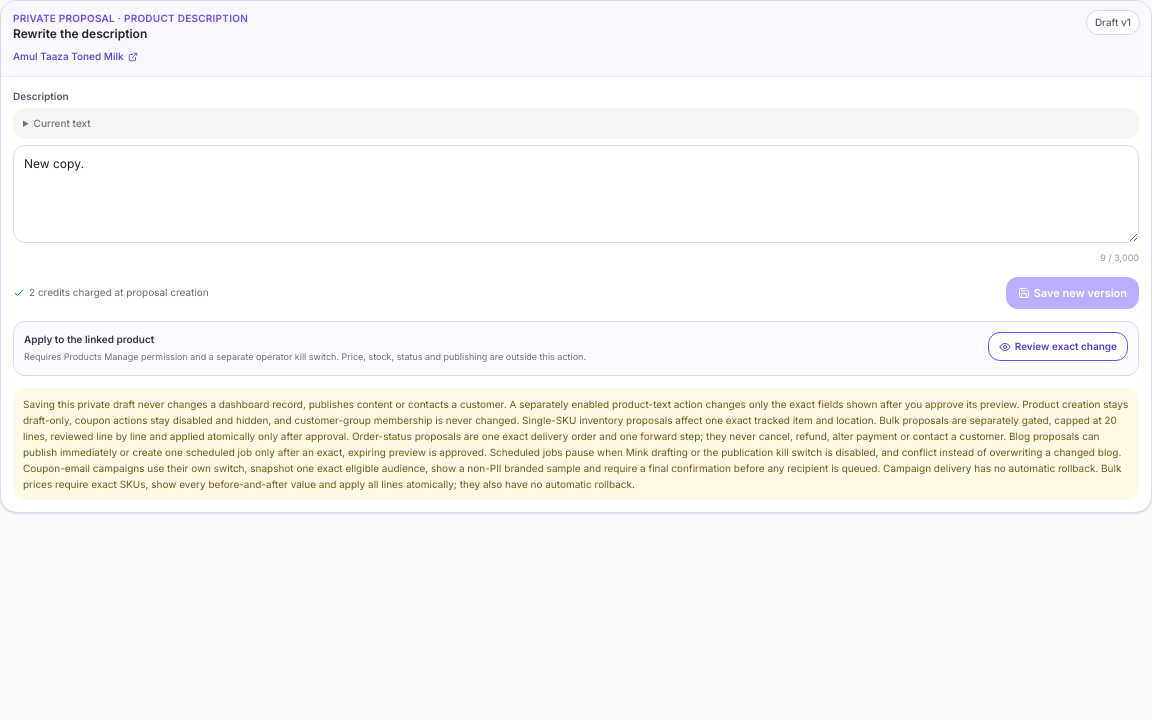
Test: Mink proposal card · execute outcome › keeps the approval when the execute outcome is unknown
The image size is (1152, 720).
Click the button "Review exact change" at [1058, 346], box [988,332,1128,361]
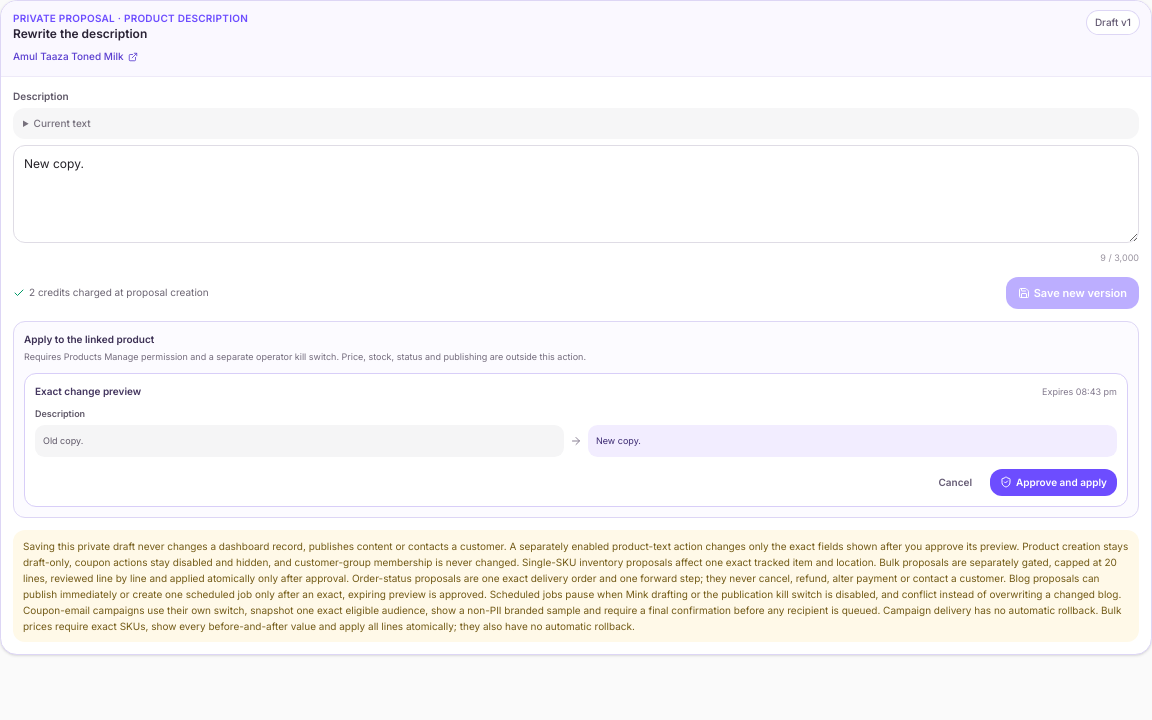
Click the button "Approve and apply" at [1054, 482], box [990,468,1117,496]
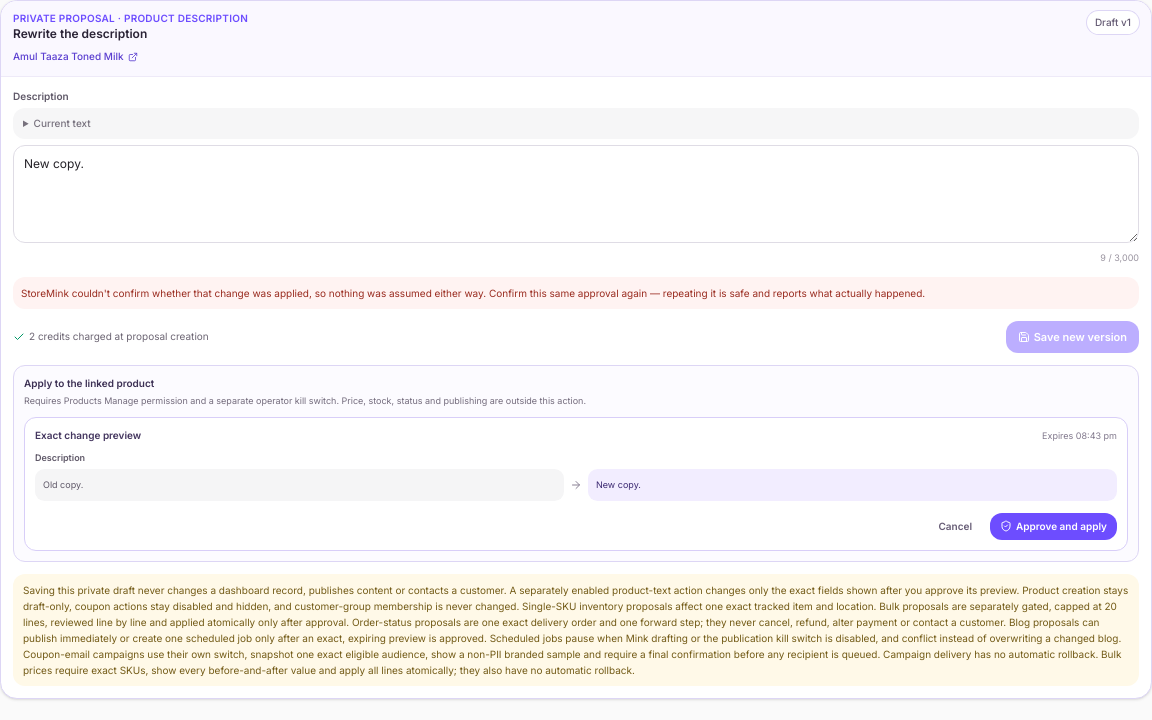
Expected: the button "Review exact change" is not shown
Expected: the button "Approve and apply" is shown, [990,512,1117,540]
Expected: the text "couldn't confirm whether that change was applied" is shown, [21,286,925,298]
